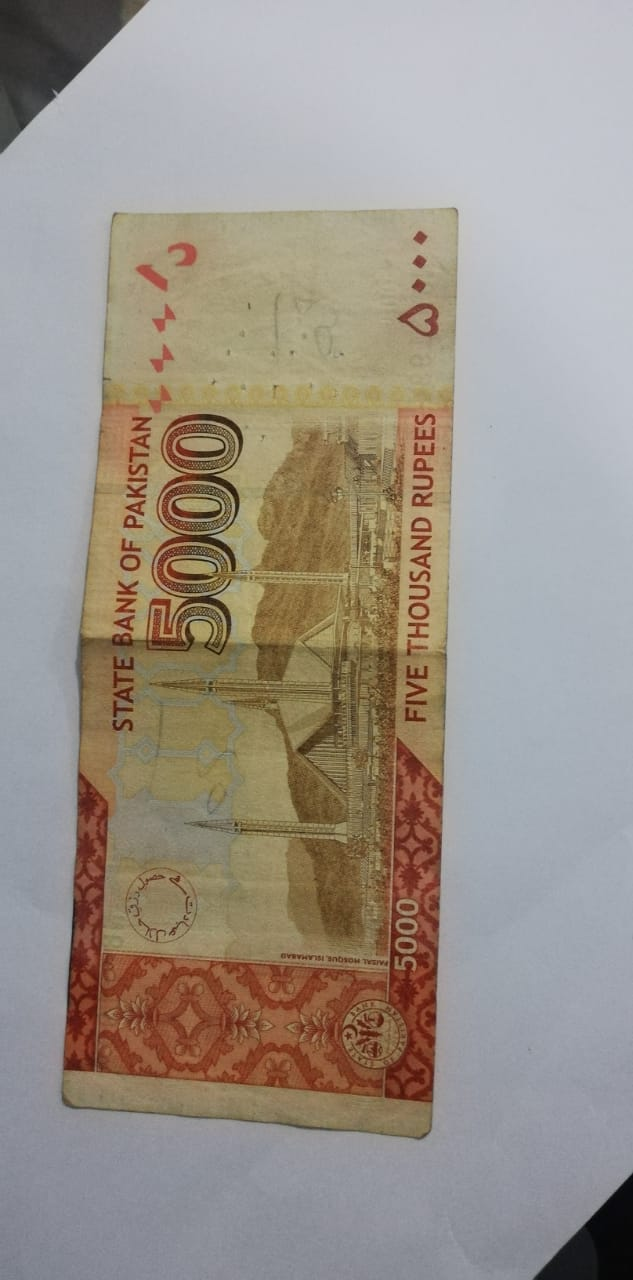5000 rupee: (41, 182, 496, 1117)
